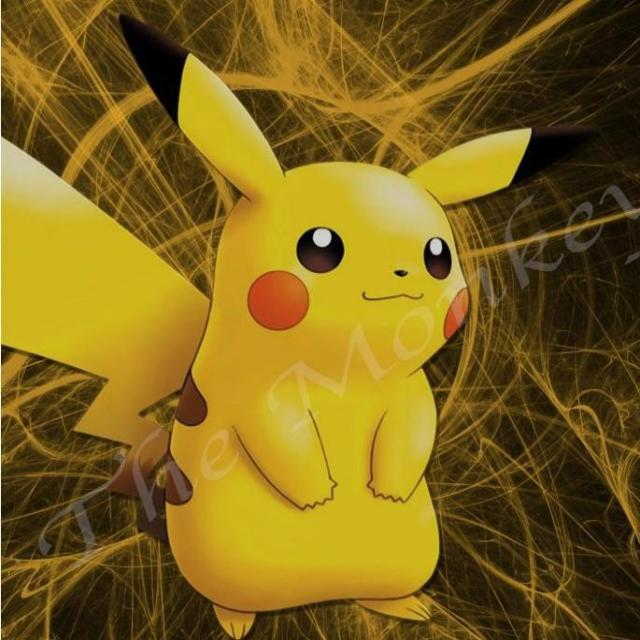pikachu: (0, 14, 534, 640)
